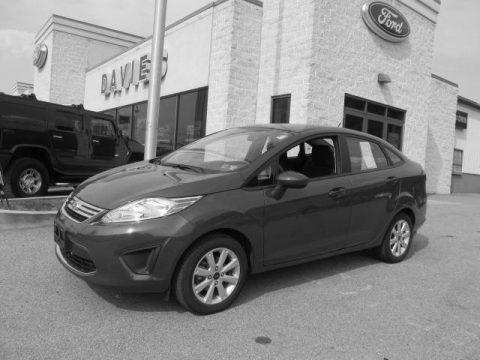car: (53, 125, 428, 318)
